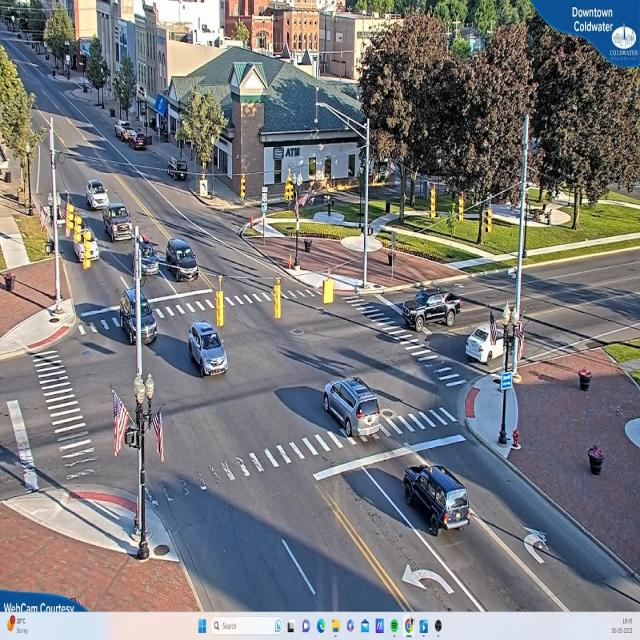car: (404, 465, 473, 536), (324, 377, 382, 439), (404, 287, 462, 327), (189, 320, 229, 377), (165, 238, 199, 280), (104, 206, 134, 242), (86, 182, 110, 212)
